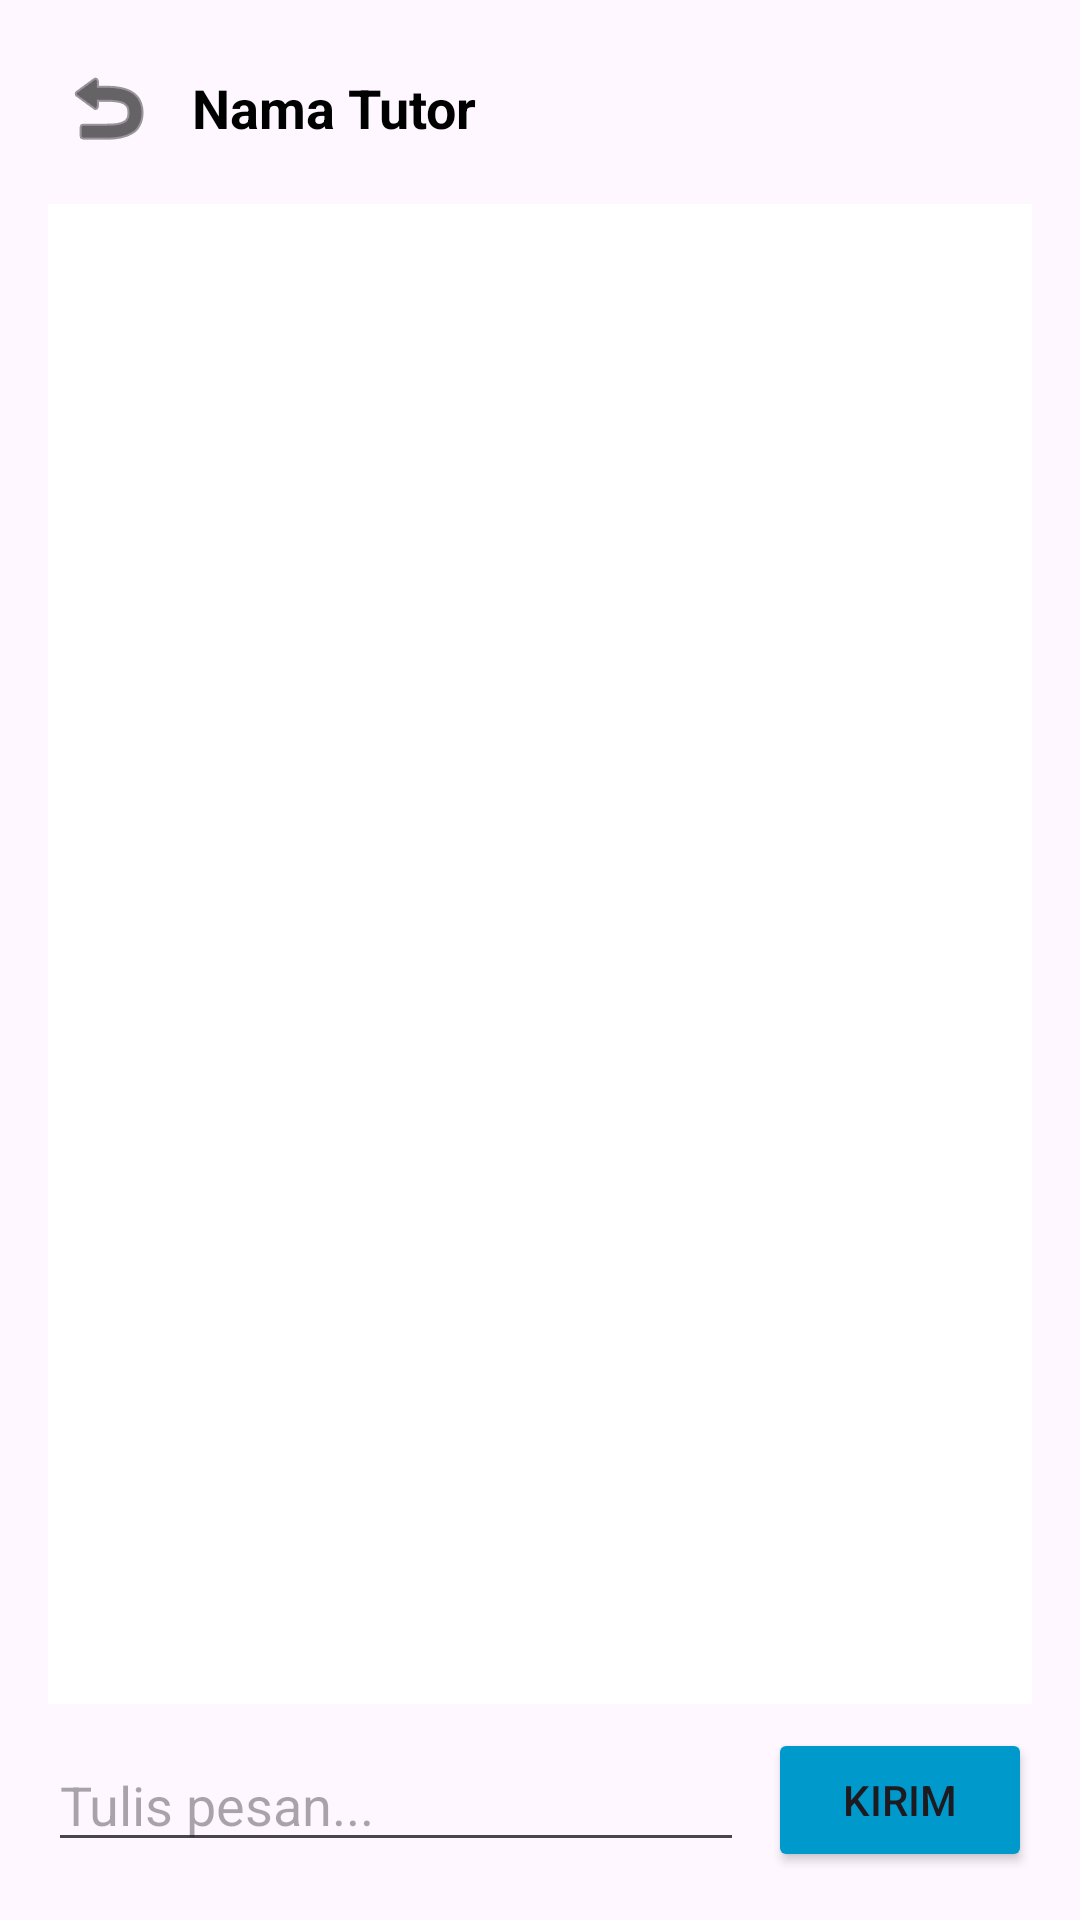

Where icons sit on this 1080px x 1920px app screen, as detection(x1, y1, x2, y2):
Kembali: detection(75, 77, 144, 140)
